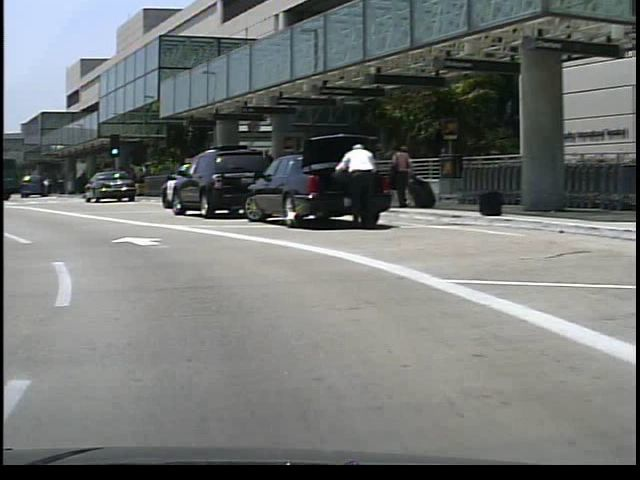person: (327, 139, 377, 233), (383, 143, 405, 213), (385, 141, 406, 213)
